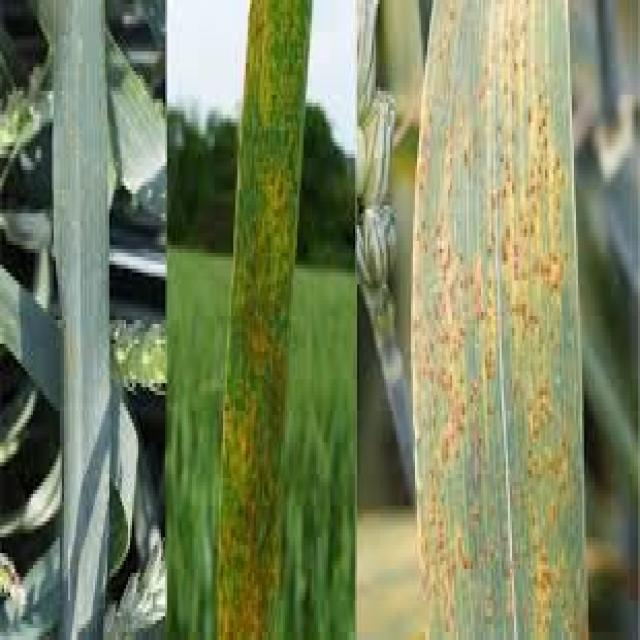leaf rust: (424, 4, 588, 640)
